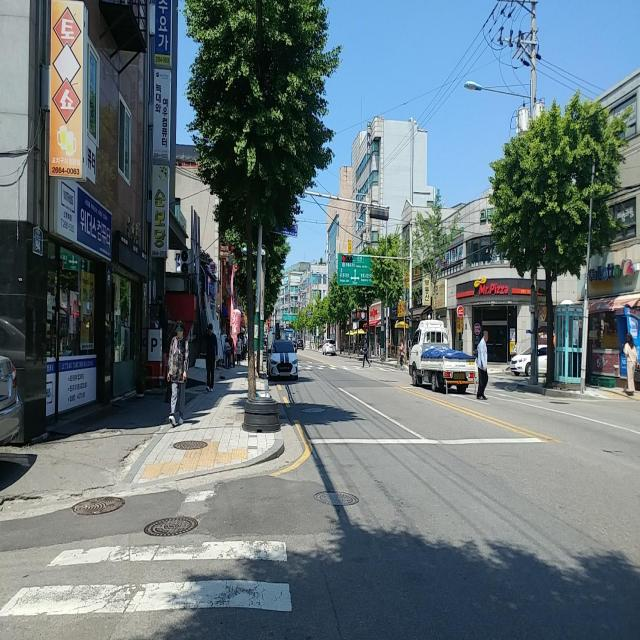횡단보도: (0, 487, 294, 619), (299, 358, 400, 372)
